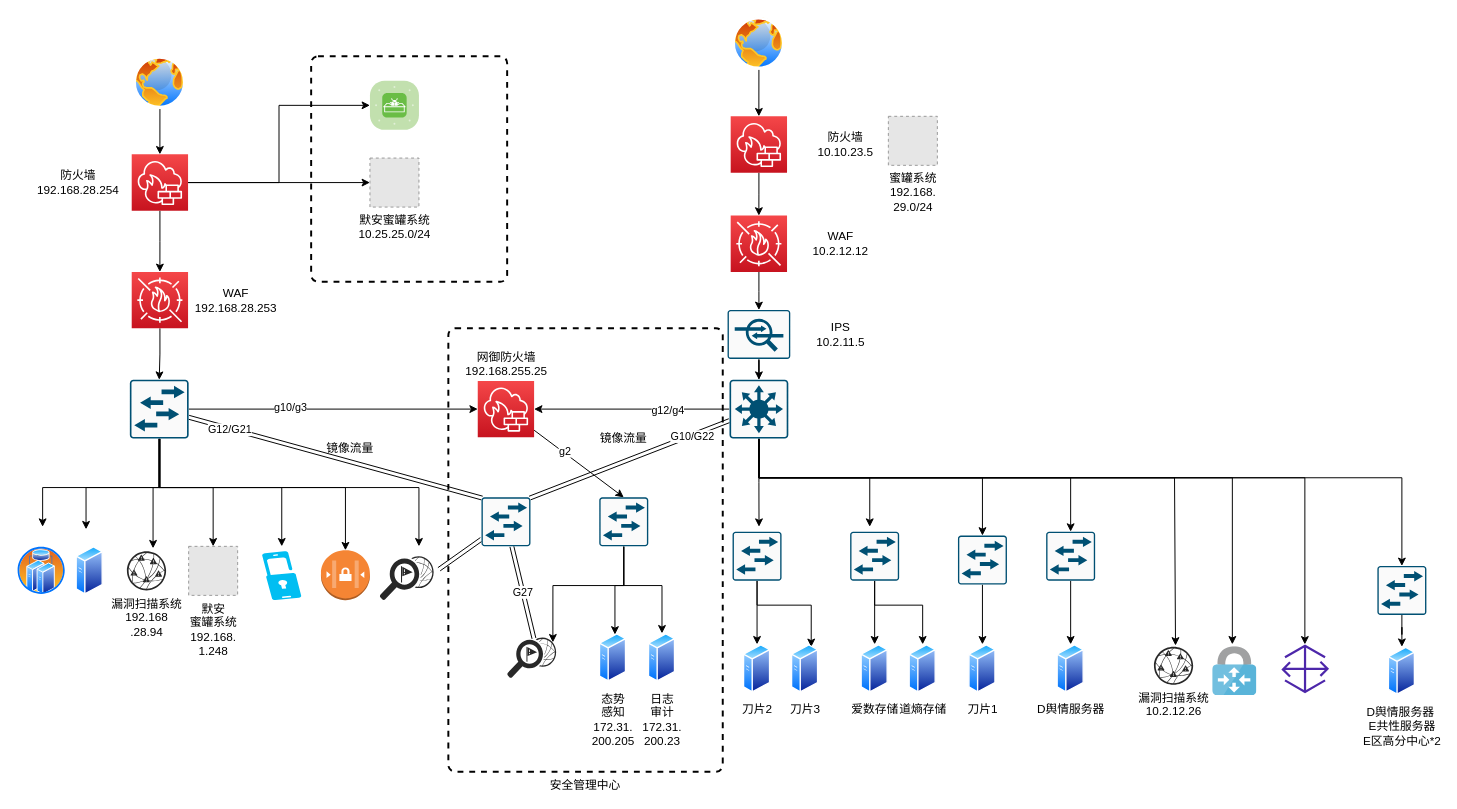
The diagram is 1457 pixels wide and 809 high, and some of its shapes have lost their labels. Grey dashed boxes stand in for pictures. Each missing label, with the centre of its shape:
"ACG 上网行为管理 10.2.12.11" belongs at point (1234, 670).
"VPN 10.2.12.11" belongs at point (1305, 668).
"堡垒机" belongs at point (89, 570).
"安全认证 192.168.28 .244" belongs at point (345, 574).
"本地沙箱" belongs at point (394, 105).
"流量分析 192.168. 28.243" belongs at point (406, 578).
"流量探针 172.31.200.205" belongs at point (531, 657).
"物资竞价 服务器区" belongs at point (41, 570).
"认证系统 192.168. 28.241" belongs at point (281, 575).
